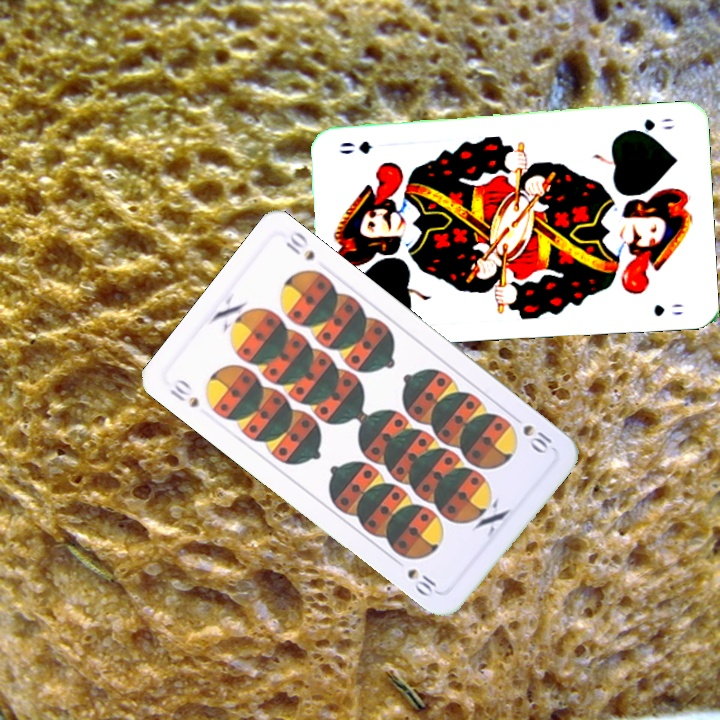GO: (623, 114, 677, 137)
S10: (507, 410, 555, 456), (165, 374, 202, 411)
